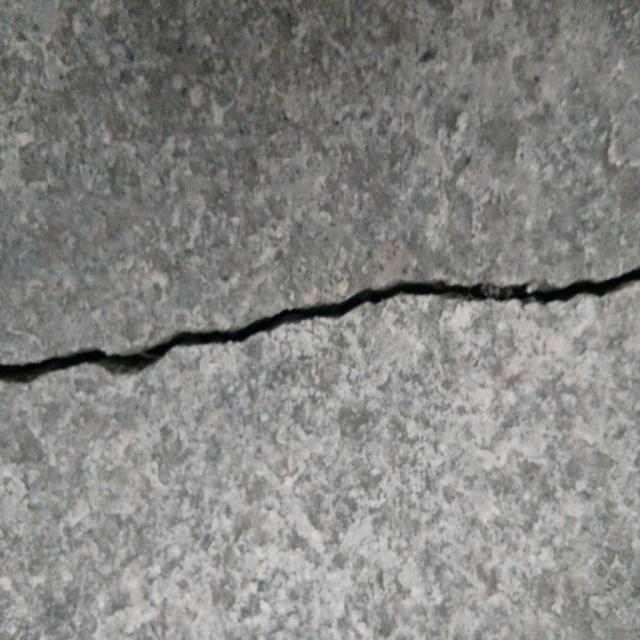cracks: (10, 255, 628, 407)
